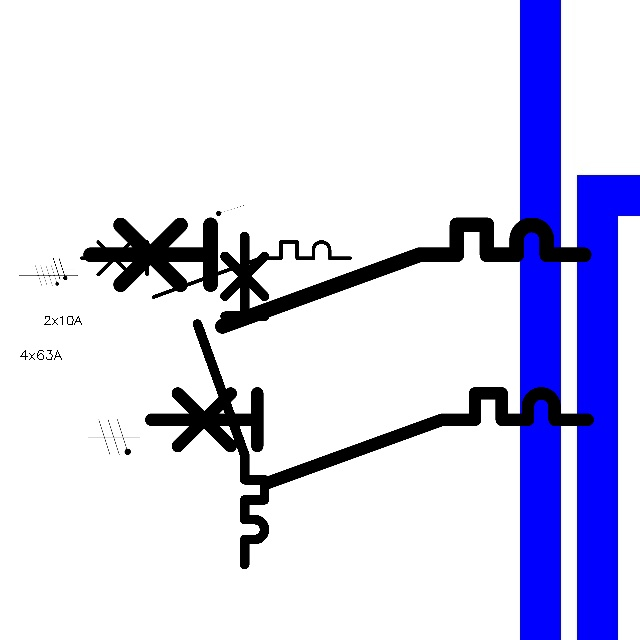interruptor_termomagnetico: (77, 212, 596, 339), (139, 382, 598, 494), (189, 228, 273, 573), (74, 235, 357, 304)
